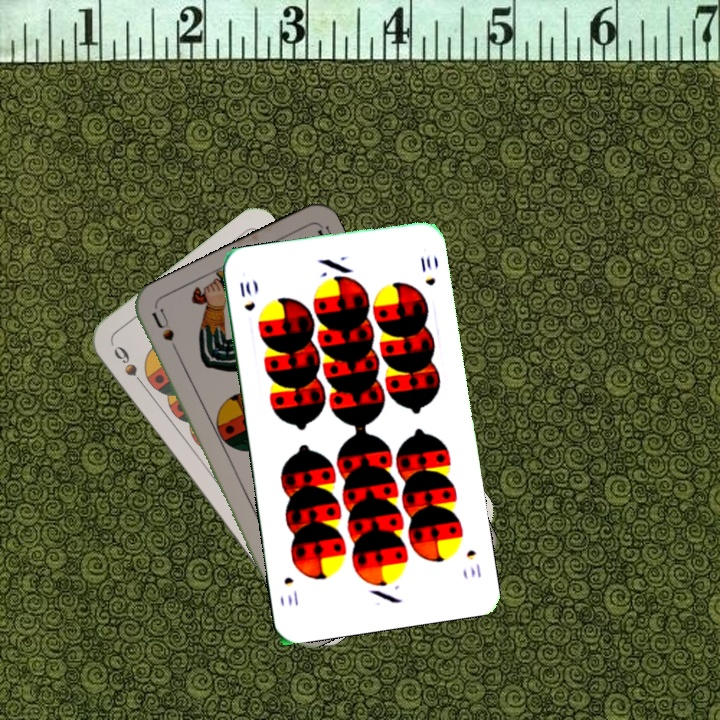S10: (235, 277, 258, 314), (462, 546, 484, 580)
S9: (109, 341, 150, 392)
SU: (147, 305, 184, 363)
